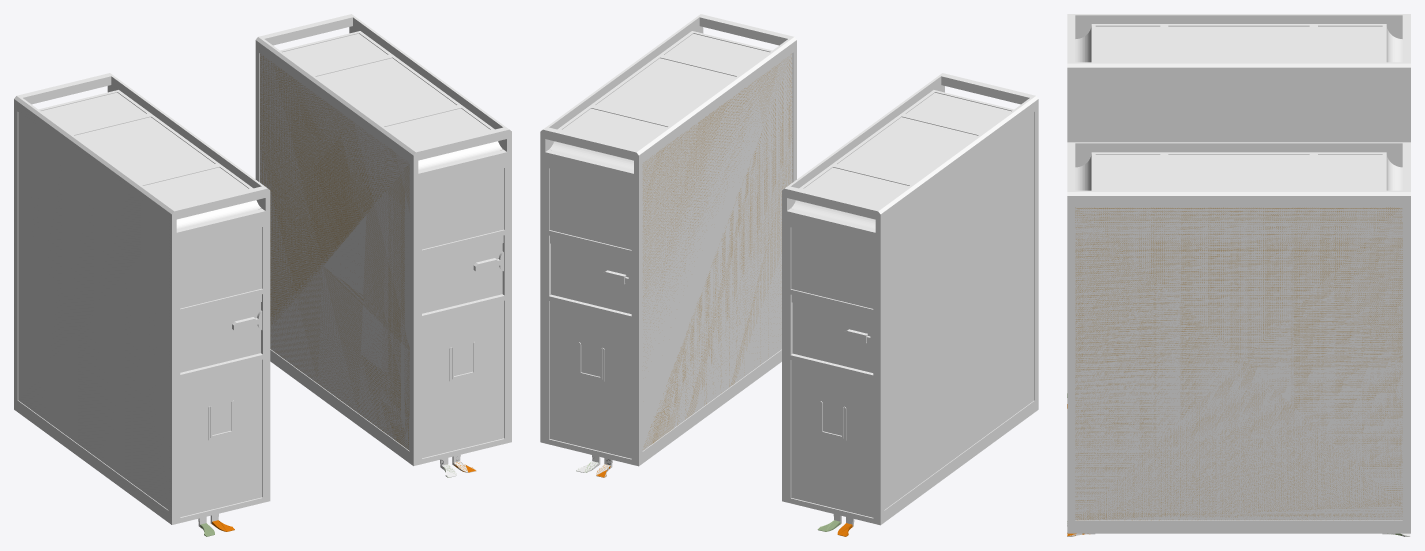
File: cart.glb
3 renders of one model, left to right at view 1: azimuth 30°, elevation 25°; view 2: azimuth 150°, elevation 25°; view 3: azimuth 270°, elevation 25°, orthographic. The views are drawn at different scales.
Parts seen in each view (by area): view 1: group_3, group_3.005, group_3.003, group_1, group_1.003, group_1.001, group_1.004; view 2: group_3, group_3.005, group_3.003, group_11, group_11.003, group_11.004, group_11.001; view 3: group_3.004, group_3, group_3.003.
Boxes of the visible parts, x1=… form: group_3: x1=14, y1=73, x2=270, y2=524; group_3.005: x1=260, y1=53, x2=409, y2=450; group_3.003: x1=255, y1=14, x2=511, y2=465; group_1: x1=176, y1=208, x2=264, y2=517; group_1.003: x1=418, y1=149, x2=506, y2=458; group_1.001: x1=174, y1=210, x2=267, y2=519; group_1.004: x1=416, y1=151, x2=509, y2=460; group_3: x1=782, y1=73, x2=1038, y2=525; group_3.005: x1=642, y1=53, x2=792, y2=450; group_3.003: x1=540, y1=14, x2=796, y2=466; group_11: x1=787, y1=208, x2=875, y2=517; group_11.003: x1=545, y1=149, x2=633, y2=458; group_11.004: x1=542, y1=151, x2=636, y2=460; group_11.001: x1=784, y1=211, x2=878, y2=519; group_3.004: x1=1075, y1=207, x2=1402, y2=520; group_3: x1=1067, y1=14, x2=1410, y2=142; group_3.003: x1=1067, y1=142, x2=1410, y2=533.
Size of the model in its own units: 1.06 by 0.99 by 0.8505.
Materials: 11 (2 with a texture image).
